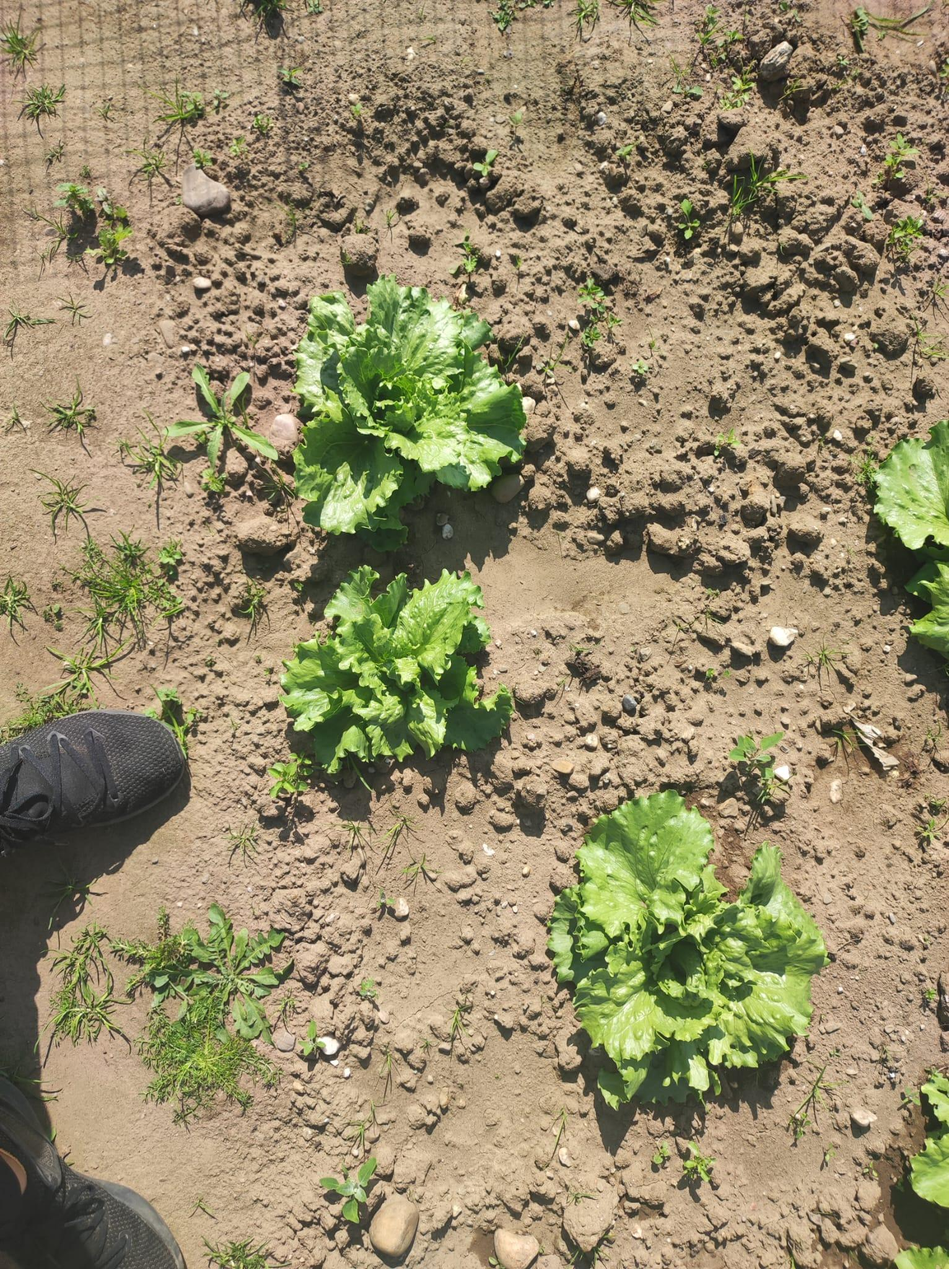Healthy: (548, 791, 827, 1110), (293, 274, 526, 551), (279, 566, 513, 774), (875, 420, 949, 658)
